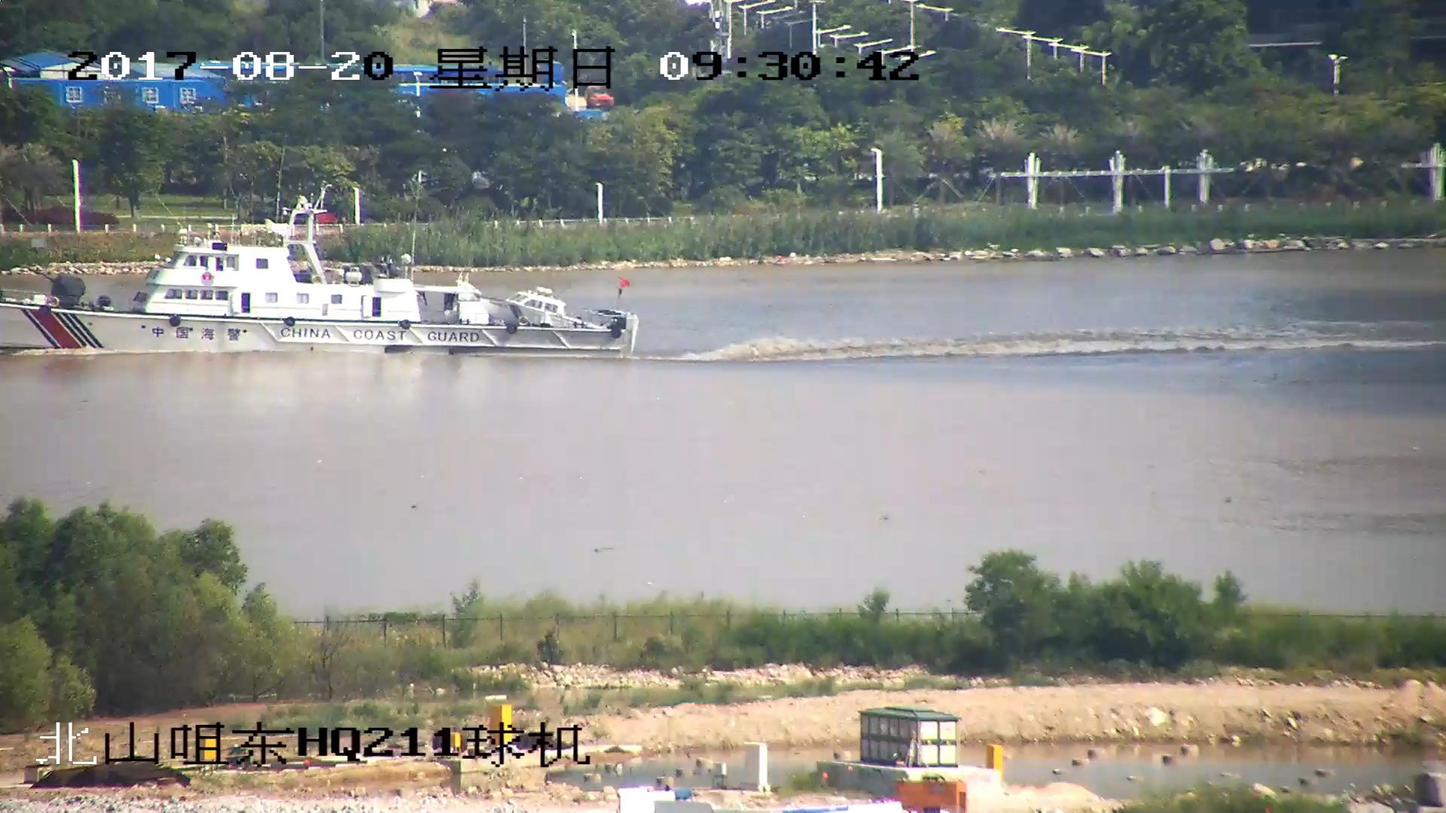passenger ship: (0, 198, 635, 359)
